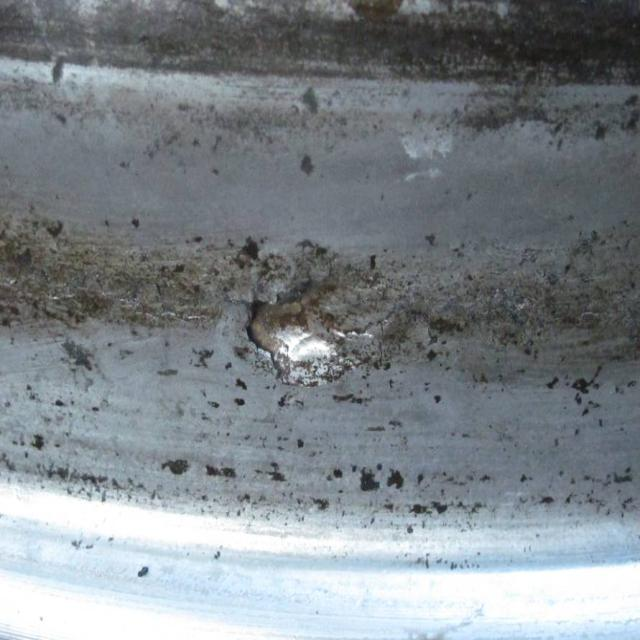Blue hole: (246, 275, 380, 383)
Peeling: (427, 316, 460, 340), (13, 249, 35, 283), (358, 471, 383, 497), (46, 218, 68, 245), (164, 456, 191, 476), (389, 470, 406, 491)
